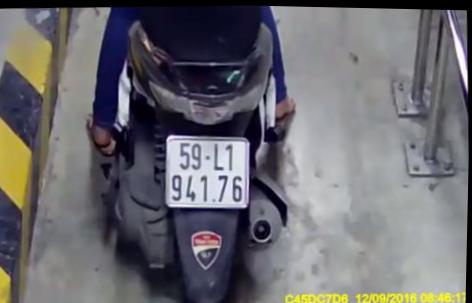LP: (161, 128, 254, 213)
